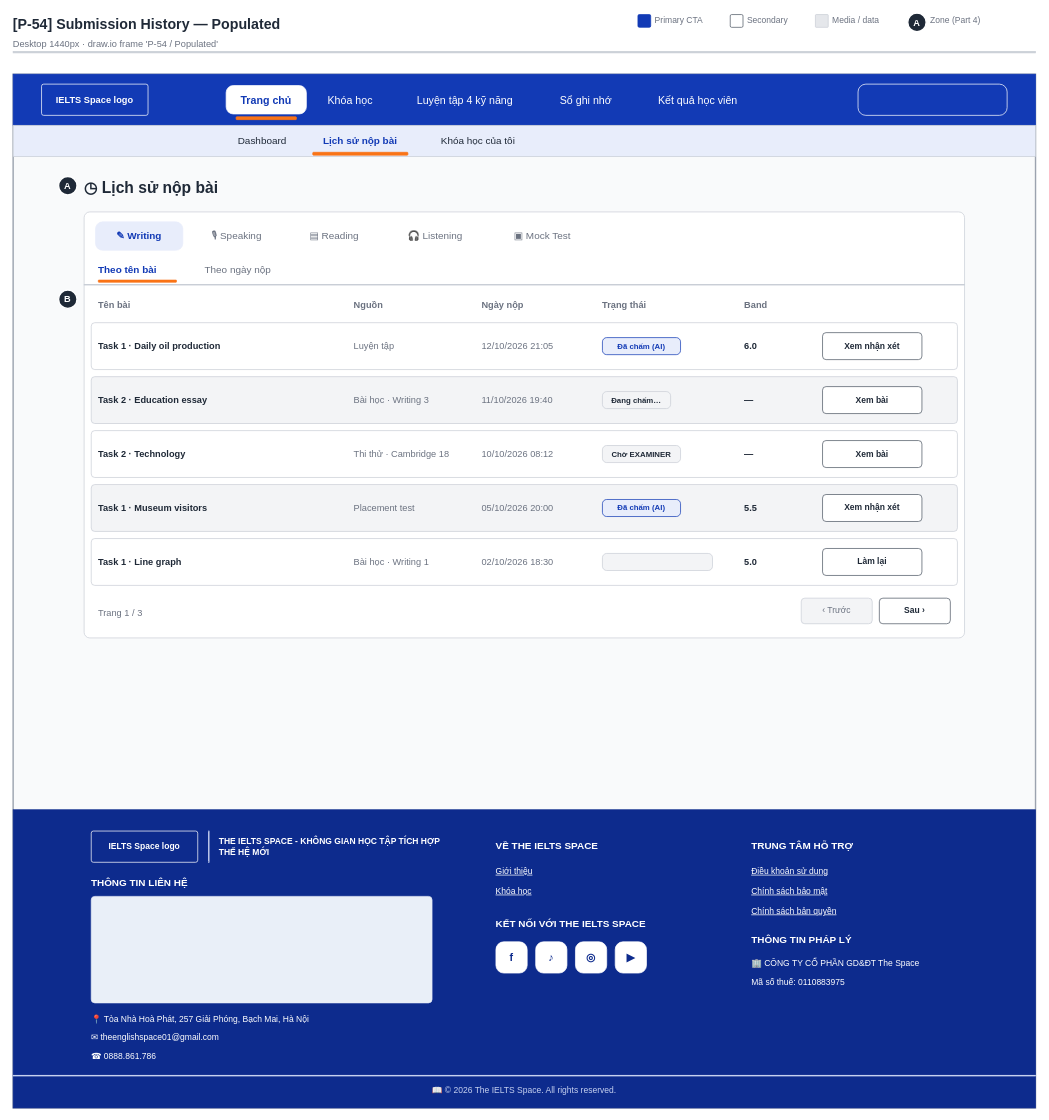
The diagram is 1049 pixels wide and 1120 high, and some of its shapes have lost their labels. The centre of each missing label's shape, as x and y in pixels:
Chưa đạt · làm lại: point 657,561
◯ Học viên · 30 Points ▾: point 932,99
📍 The IELTS Space Mở trong Maps ↗: point 261,949
